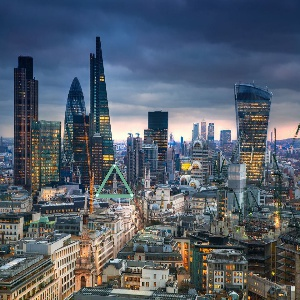triangle: (91, 163, 138, 201)
